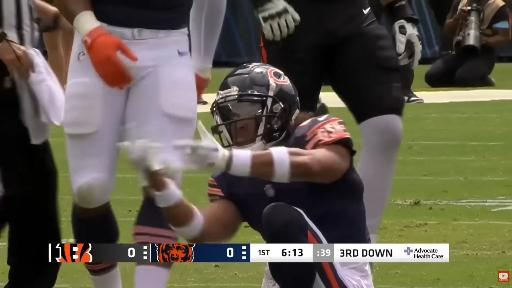Helmet: (211, 63, 299, 150)
Jersey: (208, 115, 369, 243), (286, 0, 374, 35), (91, 0, 193, 30)
Player: (129, 64, 369, 243), (253, 0, 421, 242), (55, 0, 196, 243), (190, 0, 226, 104), (400, 63, 423, 103)
